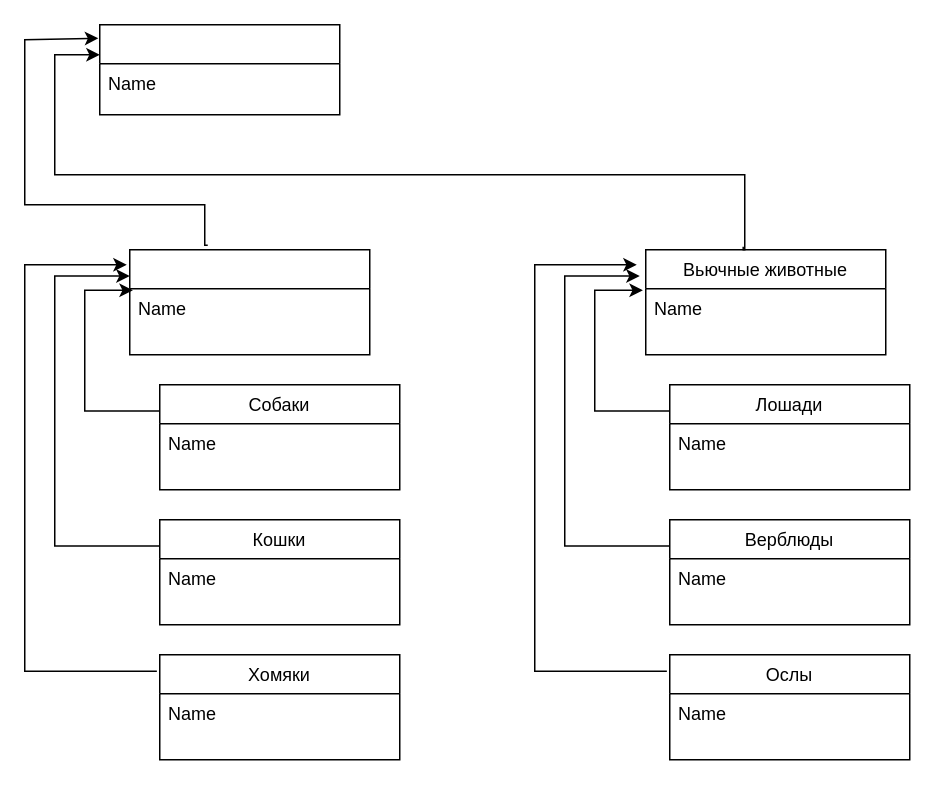
The diagram is 935 pixels wide and 785 high, and some of its shapes have lost their labels. Each missing label, with the box of its shape:
Домашние животные: (128, 248, 370, 355)
Родительский класс: (98, 23, 340, 115)
